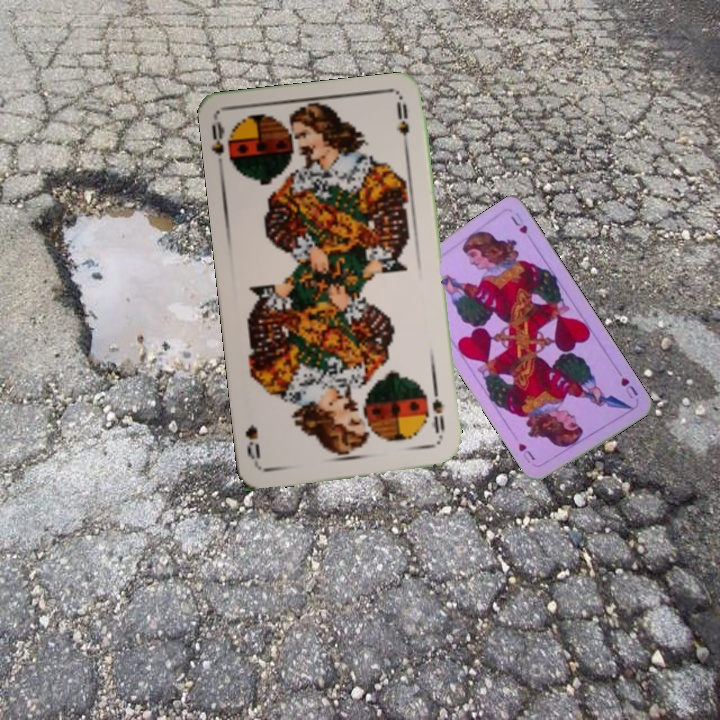HU: (617, 373, 640, 401)
SO: (207, 118, 238, 176), (427, 385, 447, 444)
